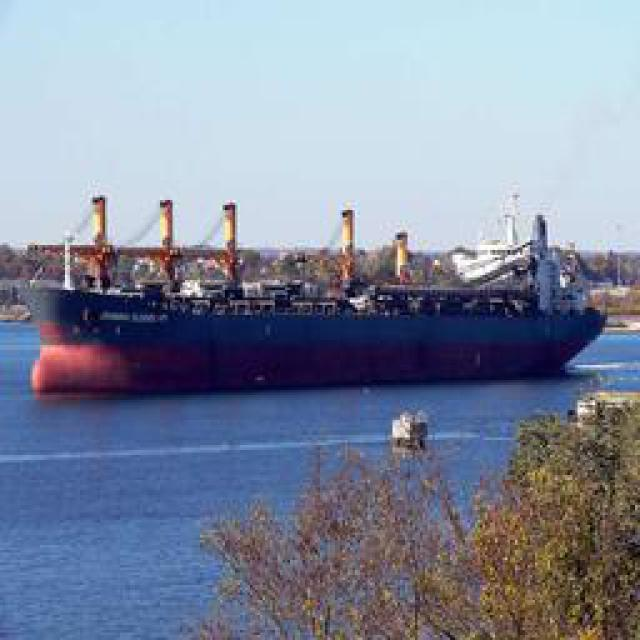Ship: (31, 197, 634, 400)
